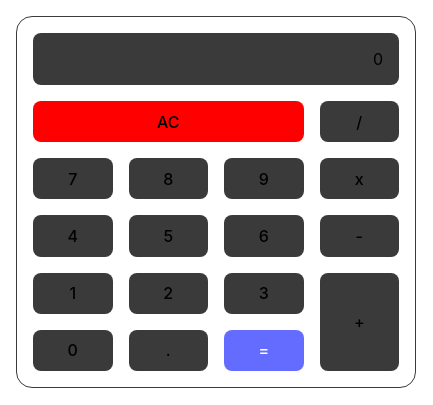
Test case: Zerar o display › AC = 0
This screenshot has width=433, height=405.
Click the button "1": (73, 294) [33, 273, 113, 314]
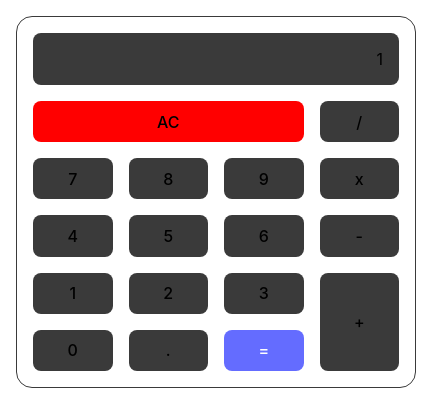
Click the button "AC": (169, 122) [33, 101, 304, 142]
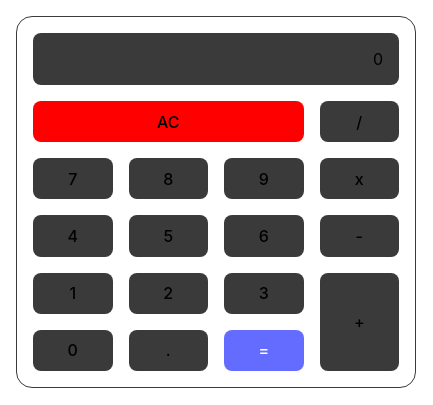
expect the text "0" is shown: met, box [373, 49, 383, 69]
